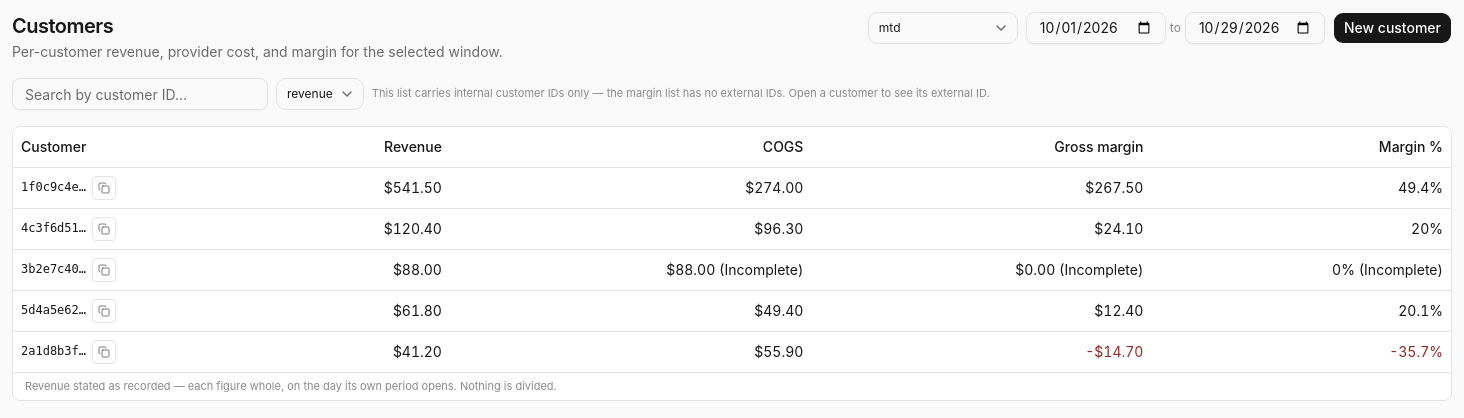
Test: CustomersPage › shows the filtered empty state when no customer ID matches
Expected: the link "1f0c9c4e…" is shown, x1=21 y1=179 x2=86 y2=196
Type "zzz-no-such-id" into the field named "Search customers" at (140,94), box x1=12 y1=78 x2=268 y2=110
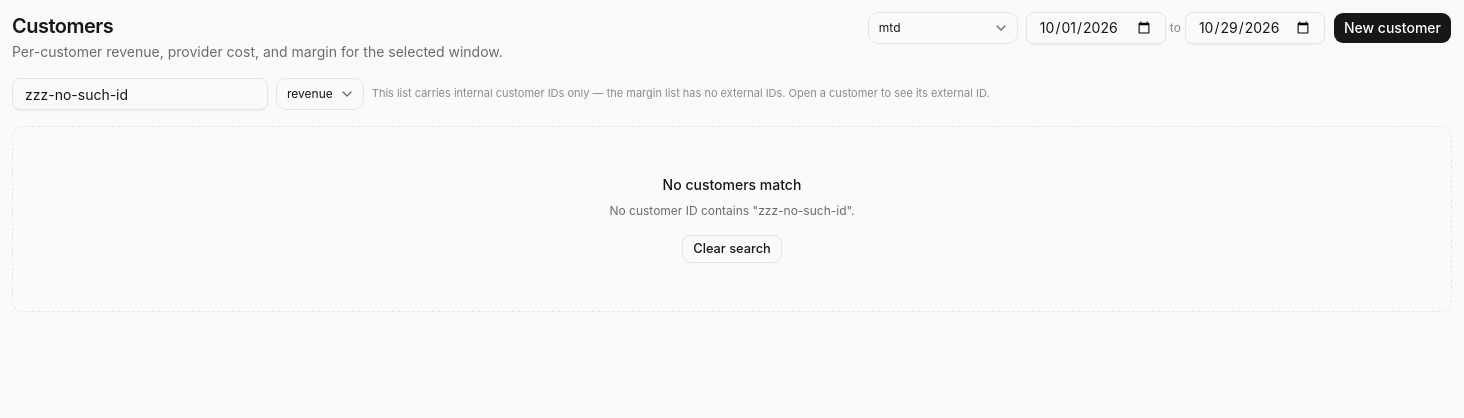
Result: the text "No customers match" is shown at x1=663 y1=175 x2=801 y2=195
Result: the link "1f0c9c4e…" is gone
